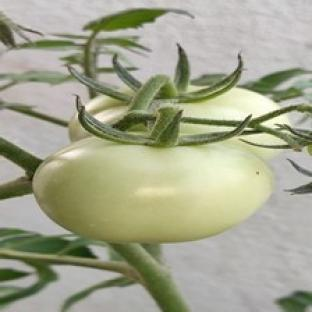Tomato: (34, 137, 272, 242), (180, 88, 279, 119), (87, 95, 128, 123)
